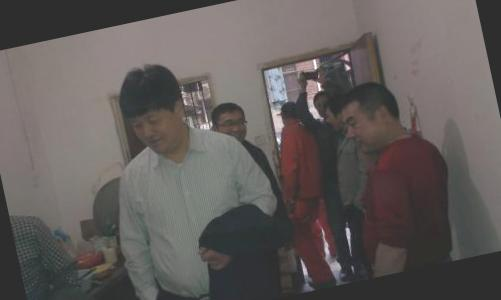no_helmet: (109, 55, 191, 160), (330, 70, 414, 158), (204, 96, 251, 144), (308, 88, 336, 123), (274, 96, 302, 128)
